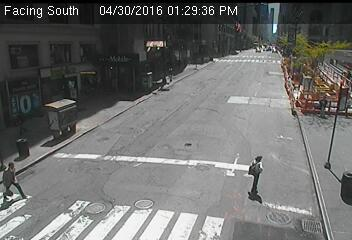neg: (146, 102, 171, 136), (228, 90, 251, 121), (286, 137, 305, 162), (292, 60, 309, 82), (17, 146, 31, 164), (119, 186, 133, 204), (119, 136, 132, 154), (250, 43, 263, 60), (53, 138, 64, 152), (212, 60, 219, 70), (52, 113, 59, 122)
pos: (235, 151, 273, 202), (315, 94, 333, 119), (10, 114, 26, 135)
